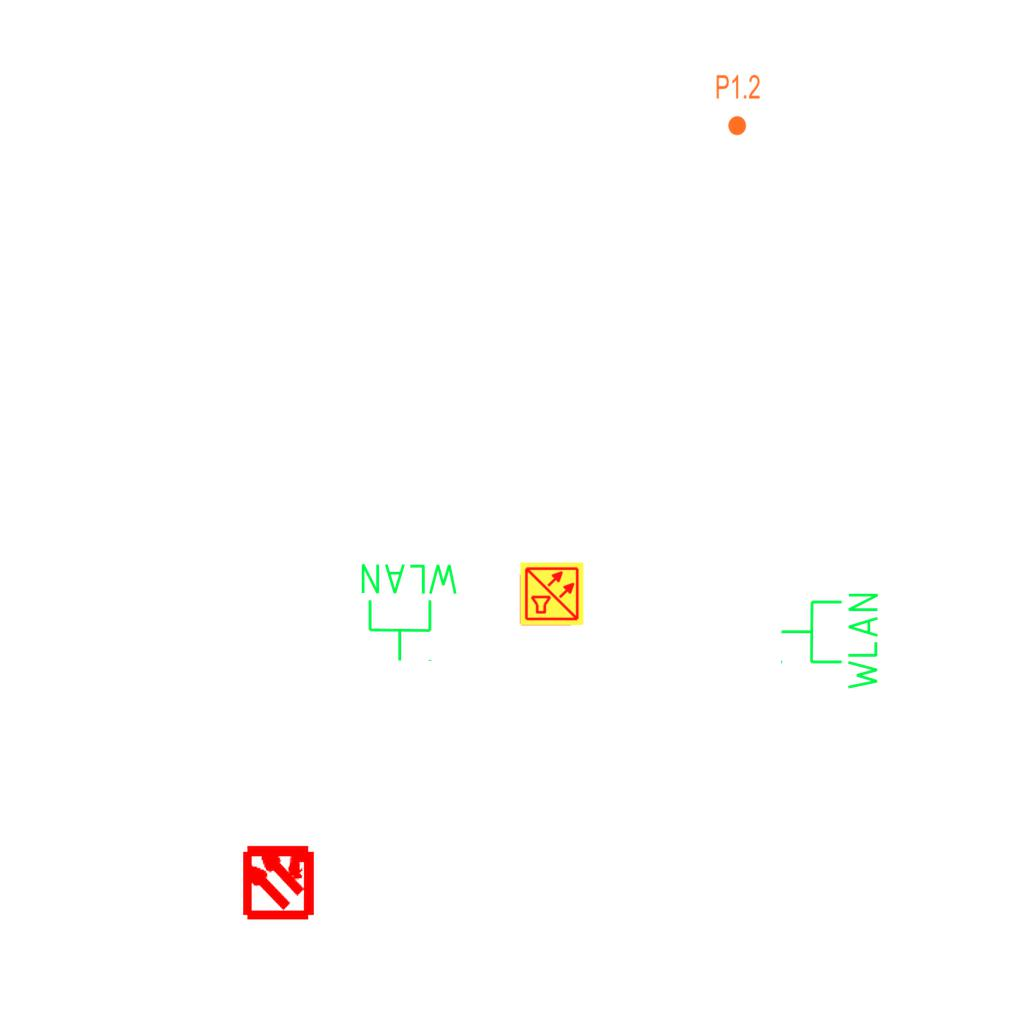Downlight_LED_Einbauleuchten_Flur: (715, 73, 761, 137)
OKW_Multisensormelder_(Kombination_optischer_Rauch-Kahlenmonoxid_Waerme-Melder): (519, 561, 585, 627)
OT_Multisensormelder_(Kombination_RMO_WMD): (222, 824, 335, 937)
WLAN: (778, 589, 882, 694), (357, 560, 462, 664)
